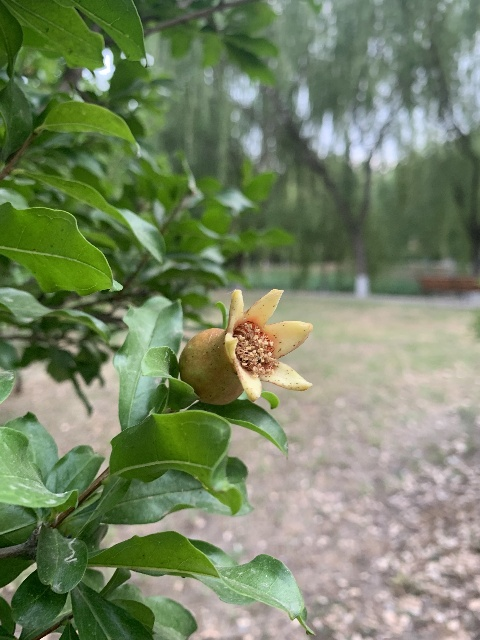early-fruit: (178, 286, 313, 405)
